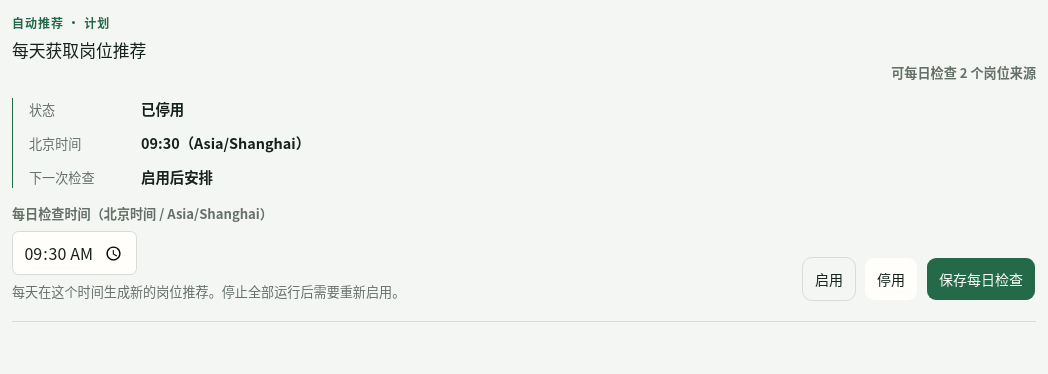
TARGET_INACTIVE 冲突后显示目标停用且禁止继续保存
Check: the text "可每日检查 2 个岗位来源" is shown, box [891,63,1036,82]
Click the button "保存每日检查" at (981, 279), box [926,257,1036,301]
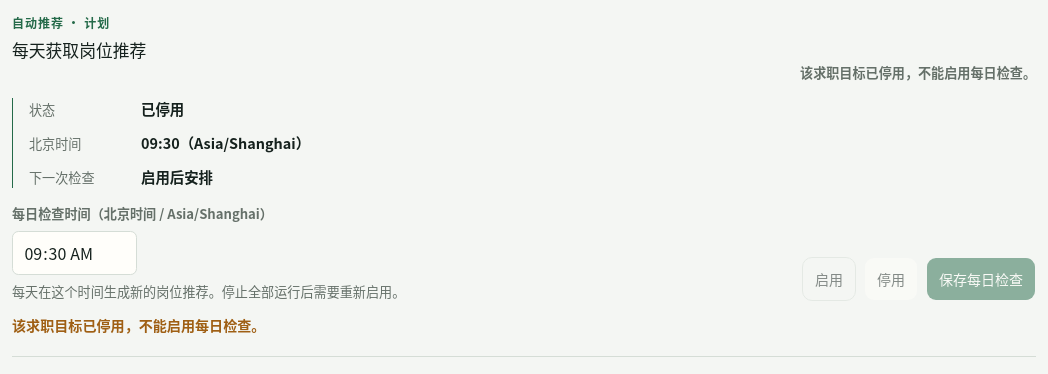
Check: the text "该求职目标已停用，不能启用每日检查。" is shown, box [800,63,1036,82]
Check: the button "启用" is disabled, box [802,257,856,301]
Check: the button "保存每日检查" is disabled, box [926,257,1036,301]
